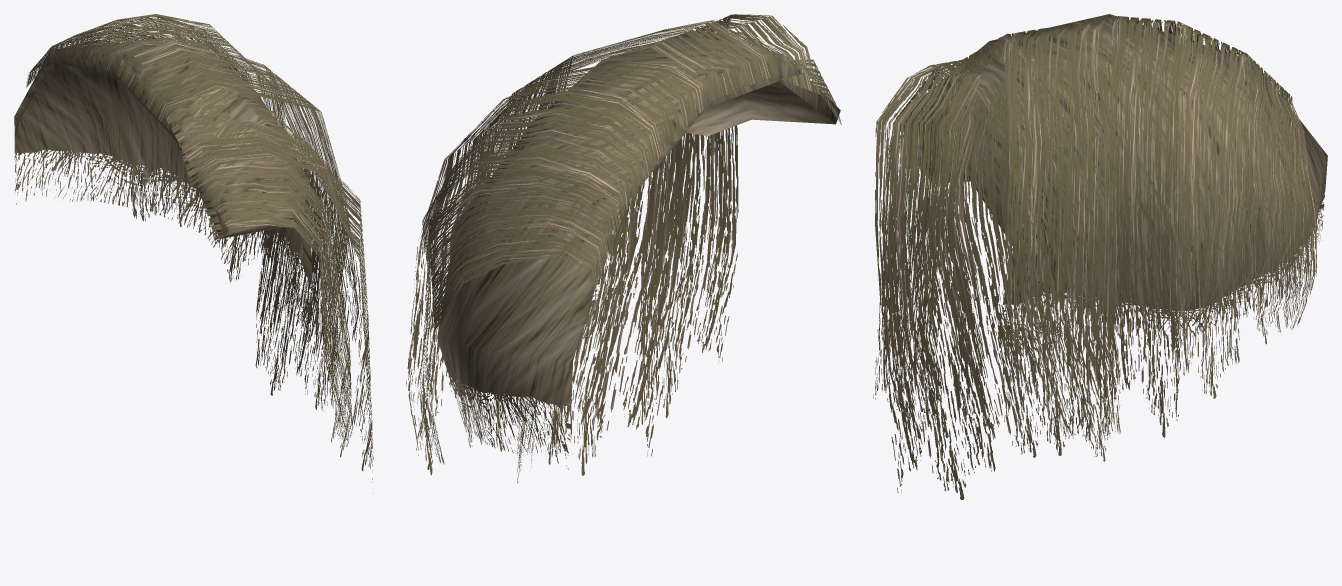
File: Fem_Raiders_Hair.fbx
3 views of the same model, side by side, from view 1: azimuth 30°, elevation 25°; view 2: azimuth 150°, elevation 25°; view 3: azimuth 270°, elevation 25° (orthographic). The views are drawn at different scales.
Visible parts, largest first — view 1: Raider_Hairs; view 2: Raider_Hairs; view 3: Raider_Hairs.
Boxes of the visible parts, <box> form: Raider_Hairs: <box>14,14,373,482</box>; Raider_Hairs: <box>406,14,841,482</box>; Raider_Hairs: <box>873,14,1327,499</box>.
Size of the model in its own units: 95.64 by 184 by 218.
